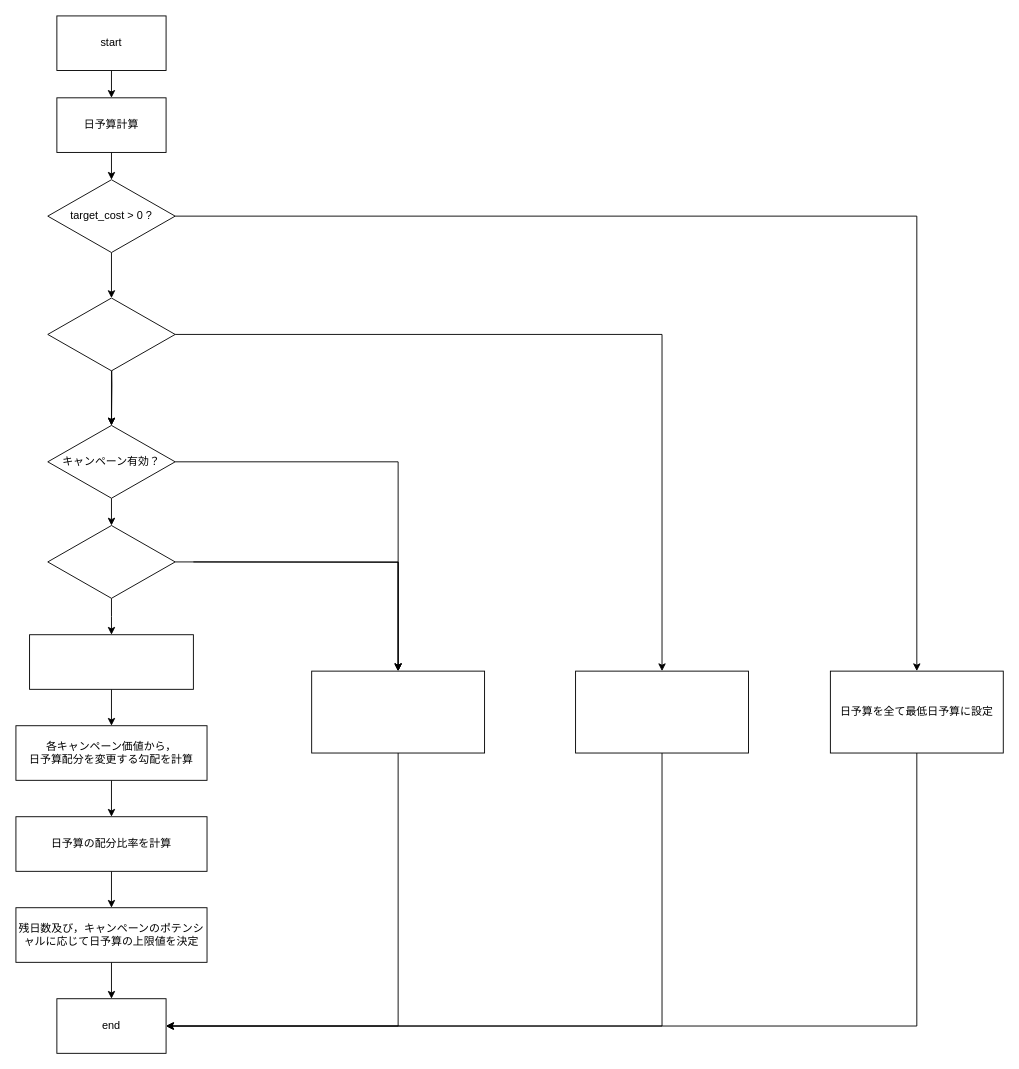
Image size: 1019x1069. Some labels were removed from this diagram. Each missing label, with the box of its shape:
cpの実績データ 1日以上存在？: (47, 525, 175, 598)
キャンペーンの価値を計算: (29, 634, 193, 689)
全てのキャンペーンの 日予算変更なし: (575, 670, 748, 753)
日予算変更なし: (311, 670, 485, 753)
直近1週間の ユニットのcpcが0: (47, 297, 175, 371)
